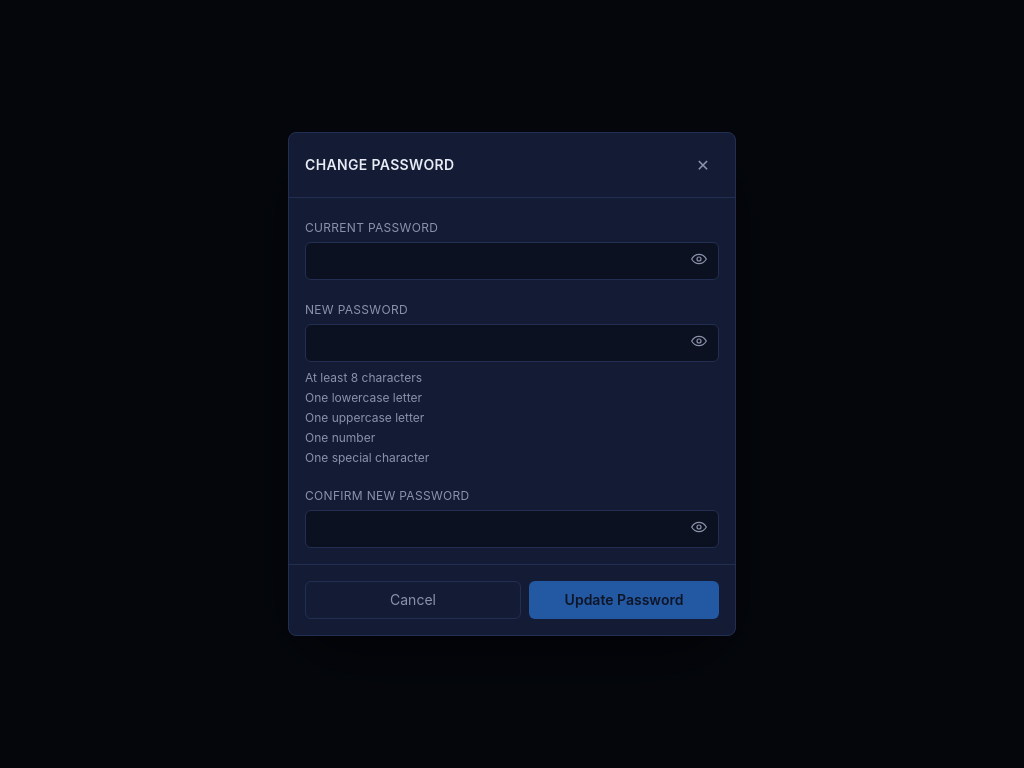
Test: ChangePasswordModal › keeps the submit disabled until current is set, new is strong, and confirm matches
# current + weak new → disabled
Step 1. Type "OldPass!xK9pQ2v3" into the password field labelled "Current Password" → (512, 261), box [305, 242, 719, 280]
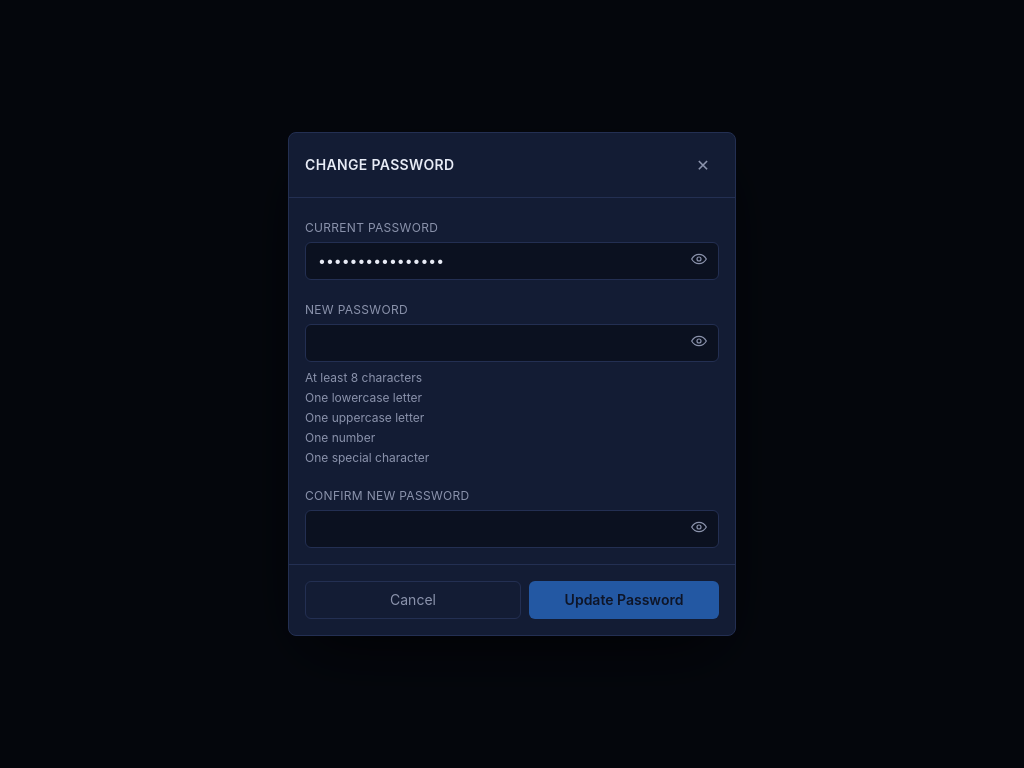
Step 2. Type "weak" into the password field labelled "New Password" → (512, 343), box [305, 324, 719, 362]
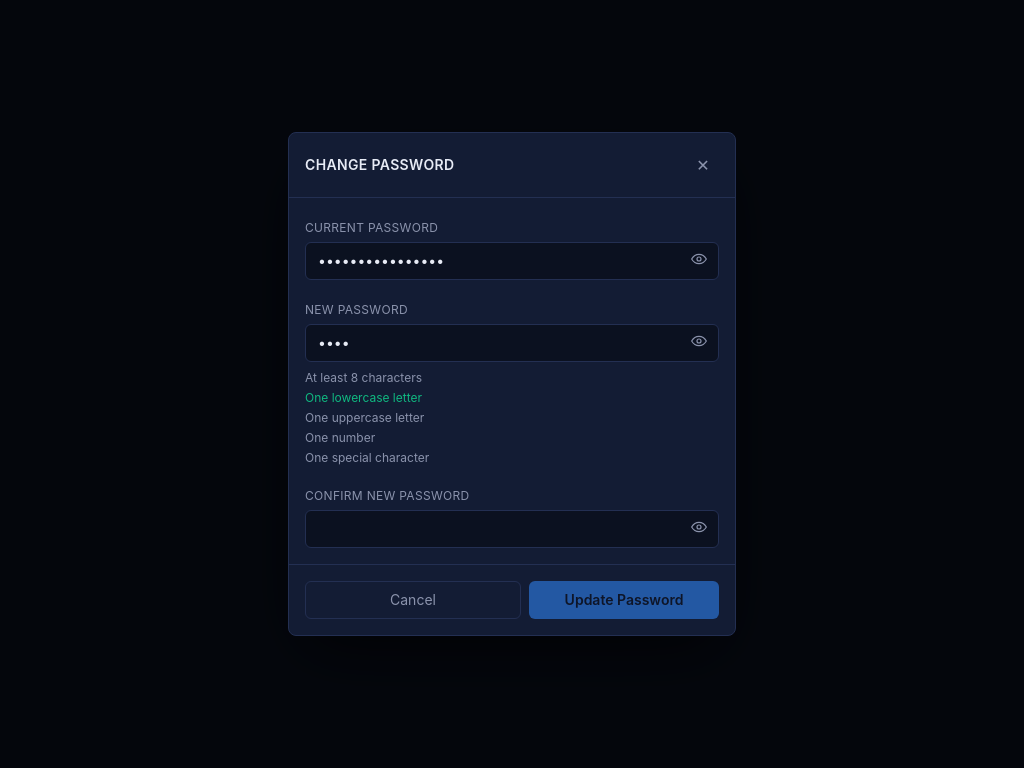
Step 3. Type "weak" into the password field labelled "Confirm New Password" → (512, 529), box [305, 510, 719, 548]
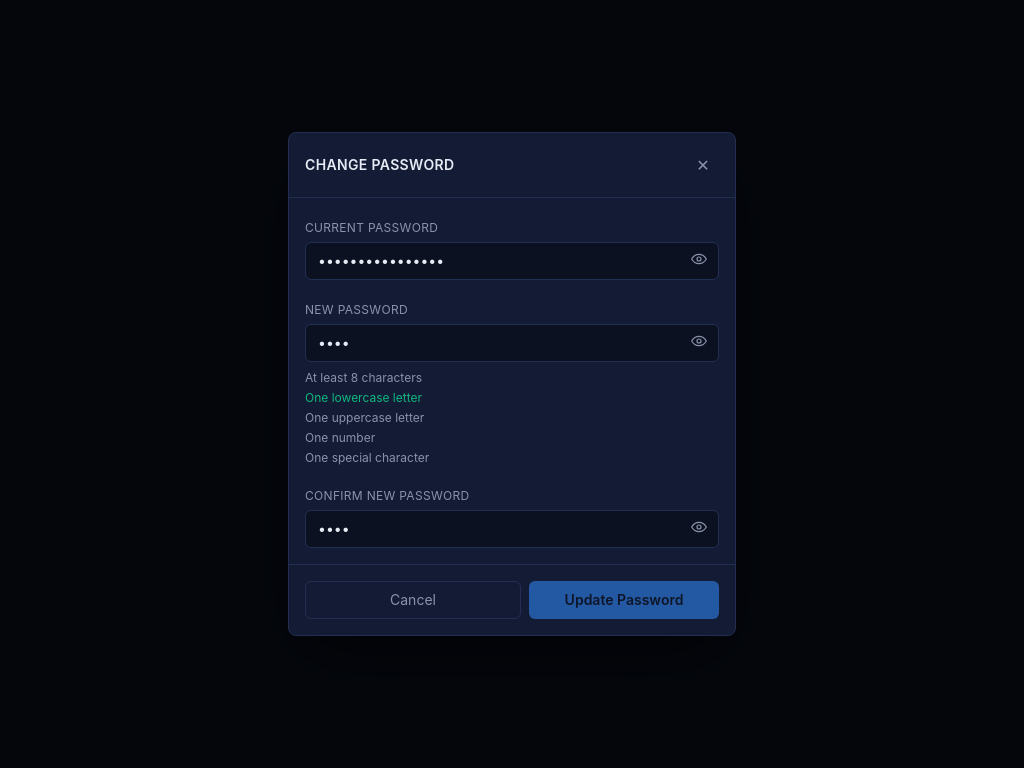
Expected: the button "Update Password" is disabled, [529, 581, 719, 619]
# strong new but confirm mismatch → disabled + live message
Step 4. Type "Str0ngPass!xK9pQ2" into the password field labelled "New Password" → (512, 343), box [305, 324, 719, 362]
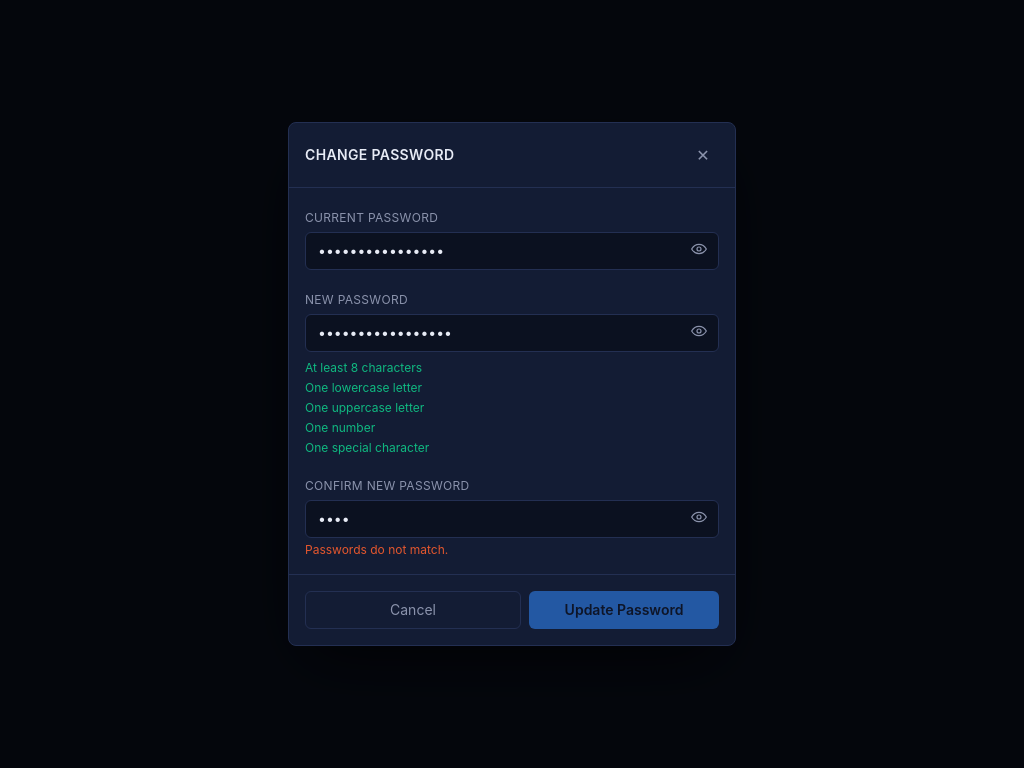
Step 5. Type "Mismatched!Pass1" into the password field labelled "Confirm New Password" → (512, 519), box [305, 500, 719, 538]
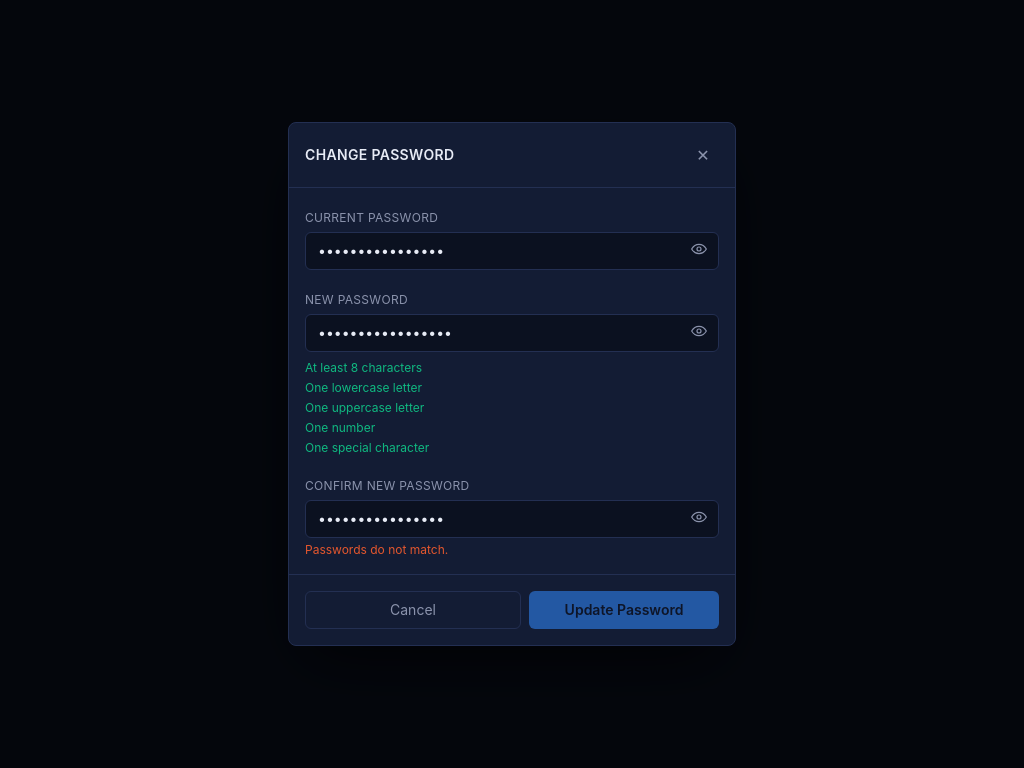
Expected: the button "Update Password" is disabled, [529, 591, 719, 629]
Now the text "Passwords do not match." is shown, box [305, 542, 448, 557]
# fully valid → enabled
Step 6. Type "Str0ngPass!xK9pQ2" into the password field labelled "Confirm New Password" → (512, 519), box [305, 500, 719, 538]
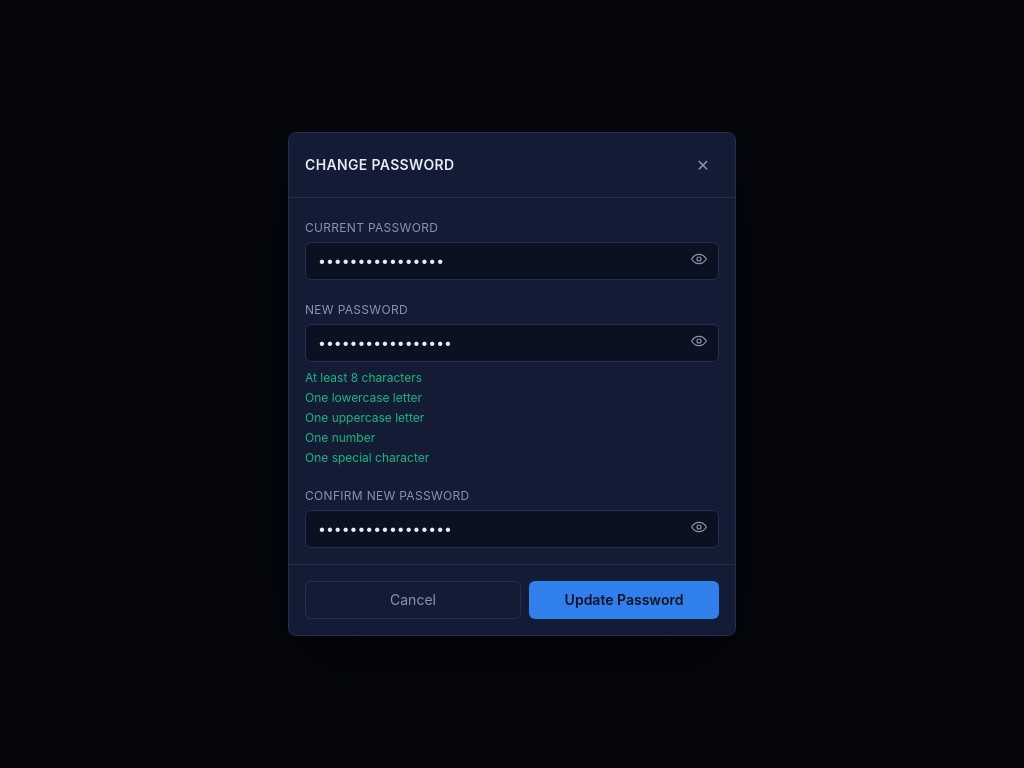
Now the button "Update Password" is enabled, box [529, 581, 719, 619]
